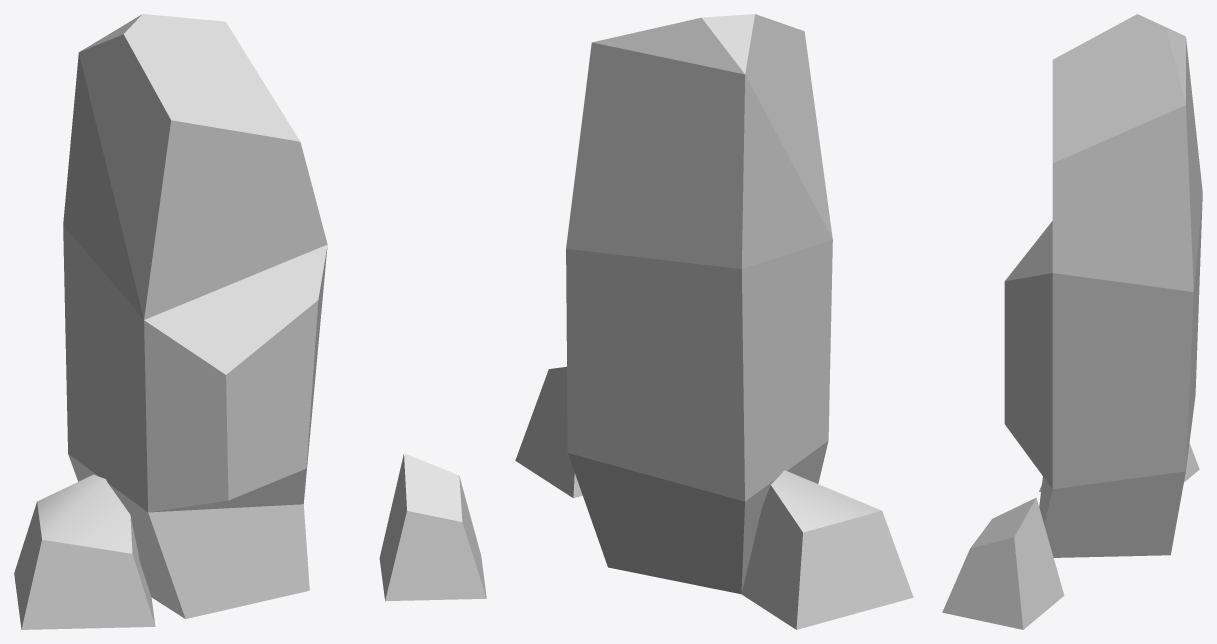
The model's file is obj_rock_7.fbx.
The picture shows the model from 3 angles, left to right: view 1: azimuth 30°, elevation 25°; view 2: azimuth 150°, elevation 25°; view 3: azimuth 270°, elevation 25°; orthographic projection. The views are drawn at different scales.
Visible parts, largest first — view 1: obj_rock_7; view 2: obj_rock_7; view 3: obj_rock_7.
Boxes of the visible parts, left/top/right/bottom form: obj_rock_7: left=14, top=14, right=486, bottom=629; obj_rock_7: left=515, top=14, right=913, bottom=629; obj_rock_7: left=942, top=14, right=1202, bottom=629.
Size of the model in its own units: 4.27 by 5.3 by 2.56.
Materials: 1 (1 with a texture image).
